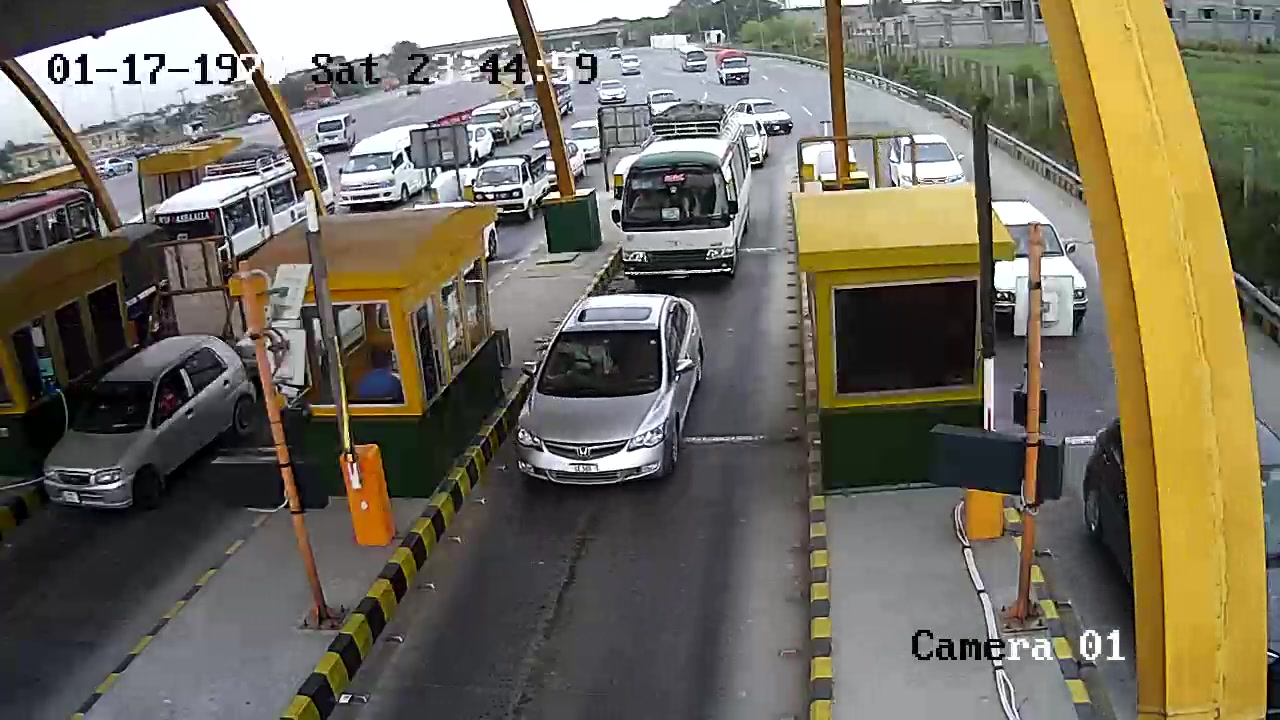F1: (500, 296, 718, 504)
F3: (618, 100, 751, 284)
